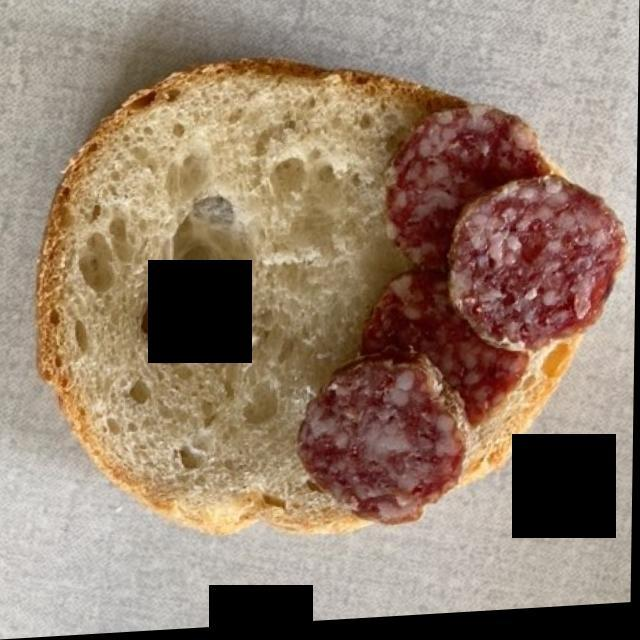bread: (43, 56, 569, 541)
salami: (309, 116, 615, 524)
